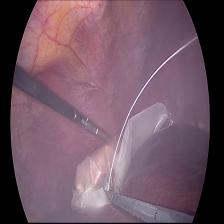Grasper: (78, 105, 113, 145), (104, 186, 114, 206)
Specimen Bag: (68, 40, 192, 220)
